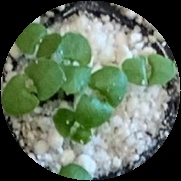Basil: (3, 60, 60, 120), (77, 65, 127, 126), (55, 31, 90, 96), (119, 55, 179, 88), (15, 24, 63, 58), (54, 106, 90, 139)
